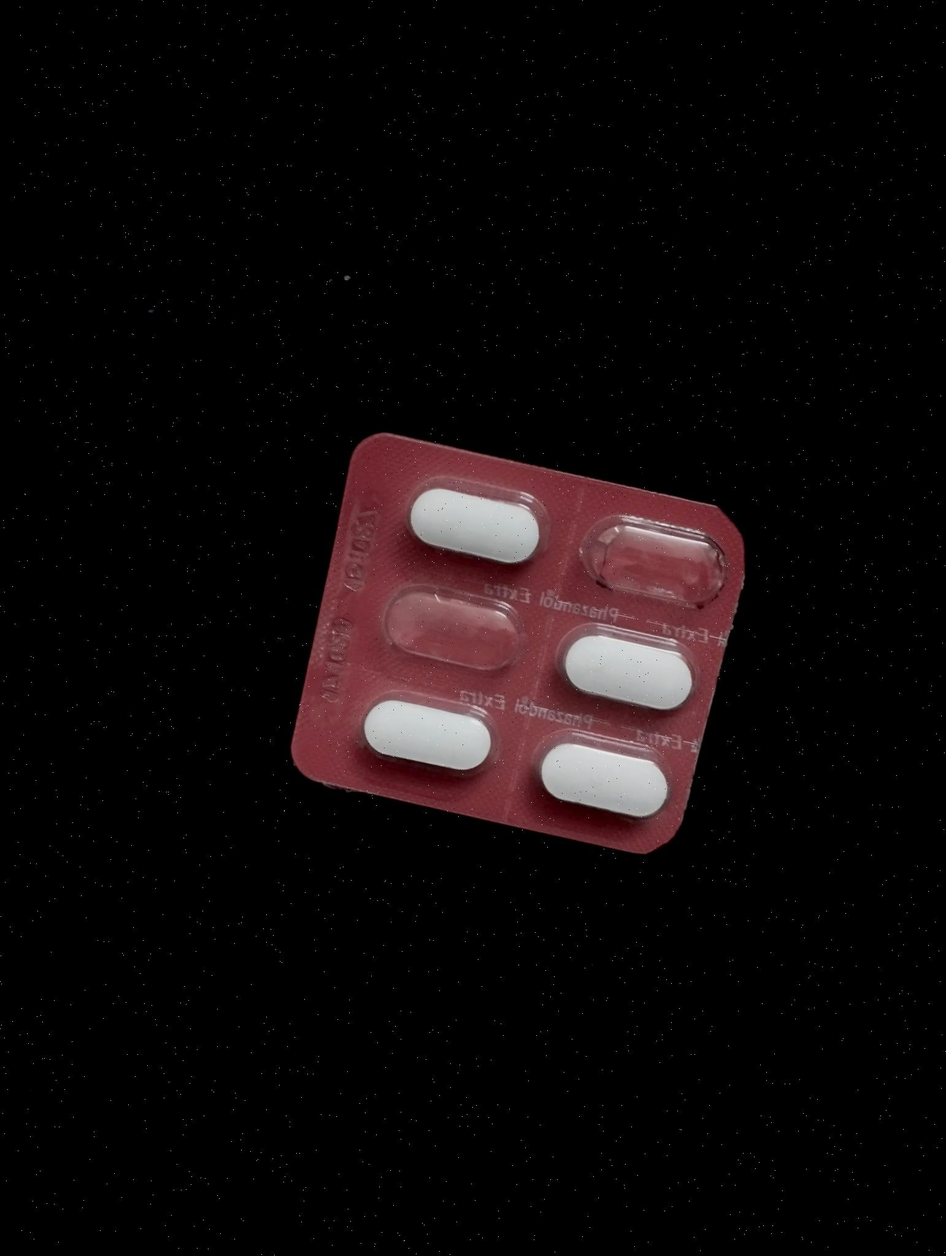Empty: (572, 510, 737, 620), (372, 578, 527, 686)
Full: (547, 623, 710, 727), (523, 727, 681, 829), (390, 478, 546, 580), (350, 691, 501, 783)
